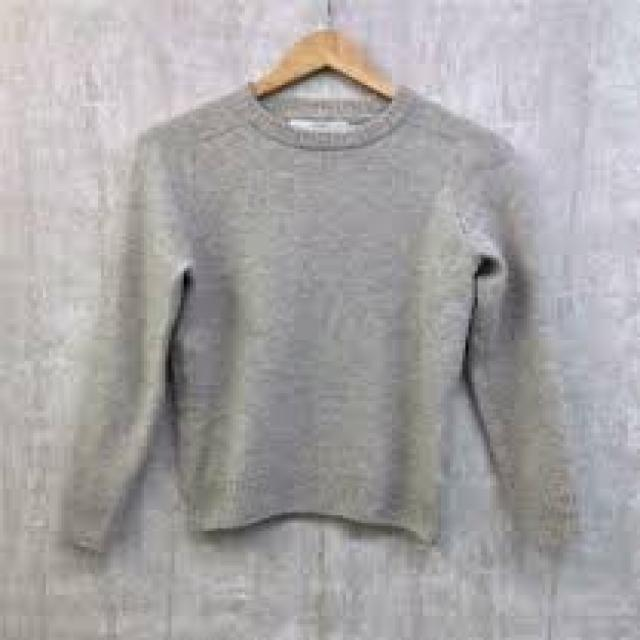plain: (25, 64, 640, 580)
